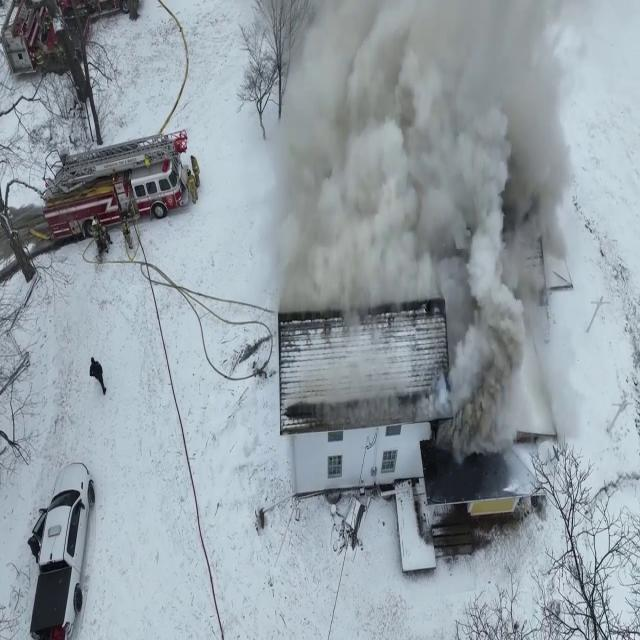Smoke: (258, 0, 606, 468)
